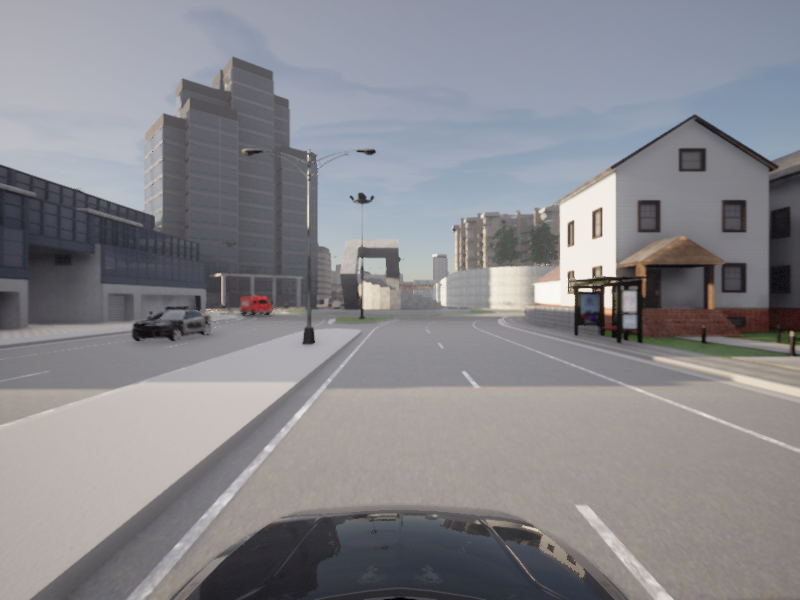vehicle: (121, 305, 216, 344)
